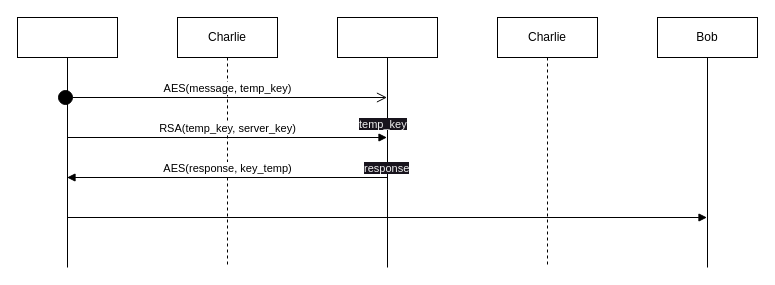
This 775x285 diagram has some shape labels left out. The shapes that lost their labels are listed below. From the top down, each one's box as (x1, y1, x2, y2) in pixels, then its label:
(16, 16, 118, 268): Alice
(336, 16, 438, 268): Server
